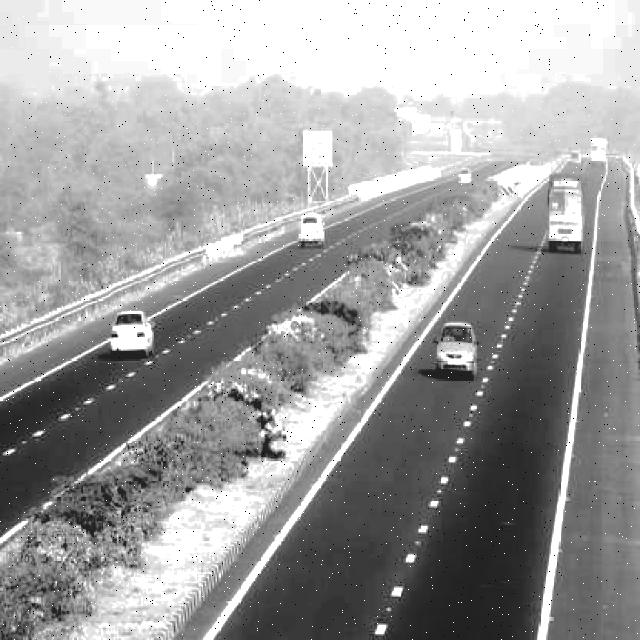HCV: (549, 168, 585, 255), (592, 138, 610, 178)
